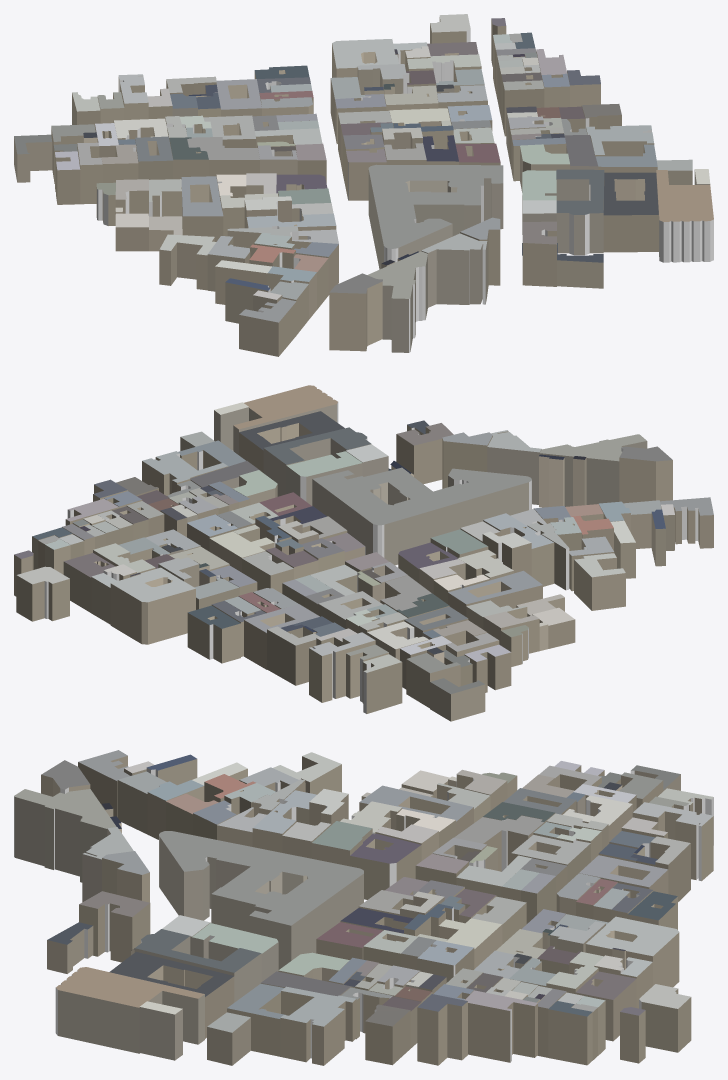
The picture shows the model from 3 angles, top to bottom: view 1: azimuth 30°, elevation 25°; view 2: azimuth 150°, elevation 25°; view 3: azimuth 270°, elevation 25°; orthographic projection. The views are drawn at different scales.
Parts seen in each view (by area): view 1: tuile; view 2: tuile; view 3: tuile.
Boxes of the visible parts, <box> form: tuile: <box>14,14,713,356</box>; tuile: <box>14,385,713,721</box>; tuile: <box>14,750,713,1065</box>.
Size of the model in its own units: 264 by 30.77 by 281.
